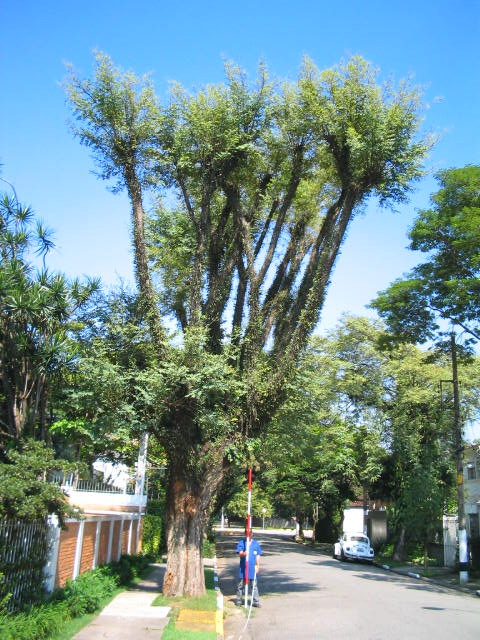stem: (142, 491, 224, 599)
stick: (239, 469, 259, 605)
tree: (57, 48, 442, 600)
